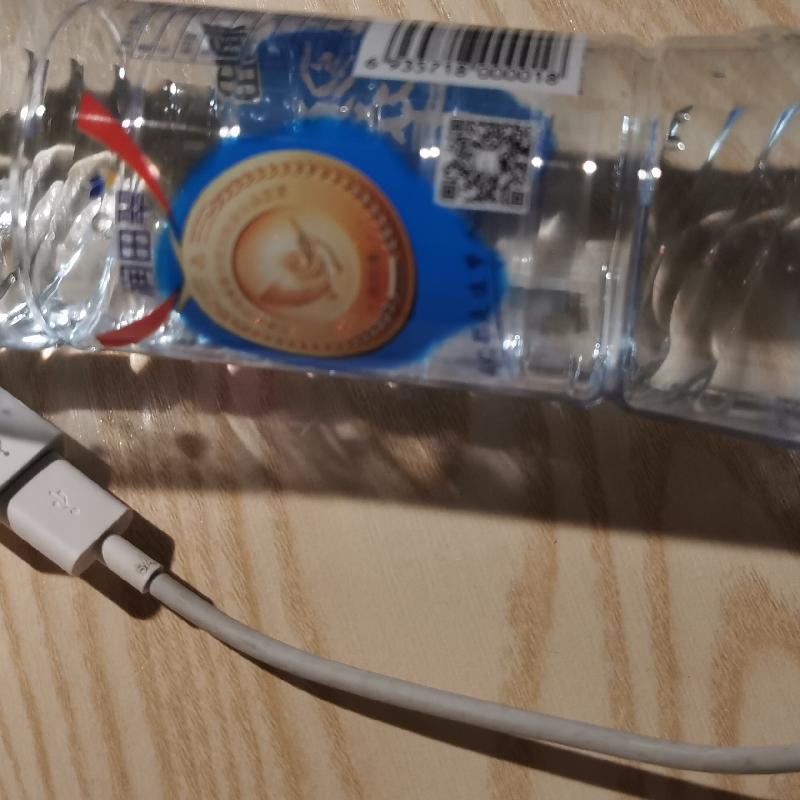bottles: (6, 6, 799, 440)
